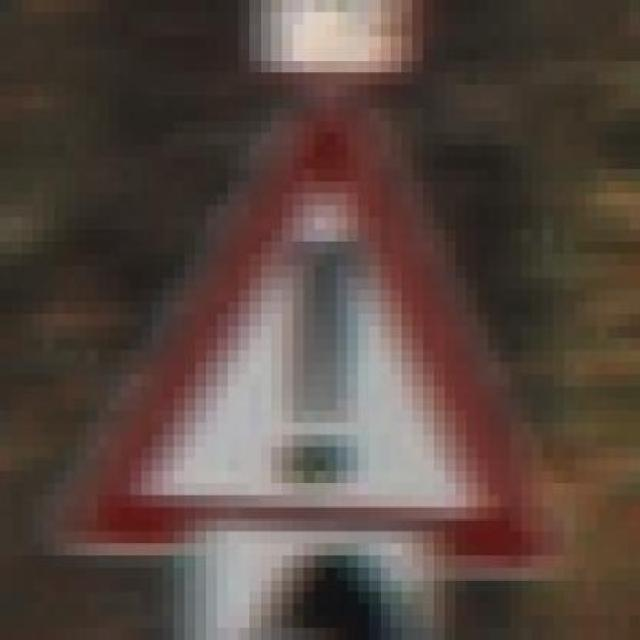Attention Please-: (45, 110, 567, 558)
